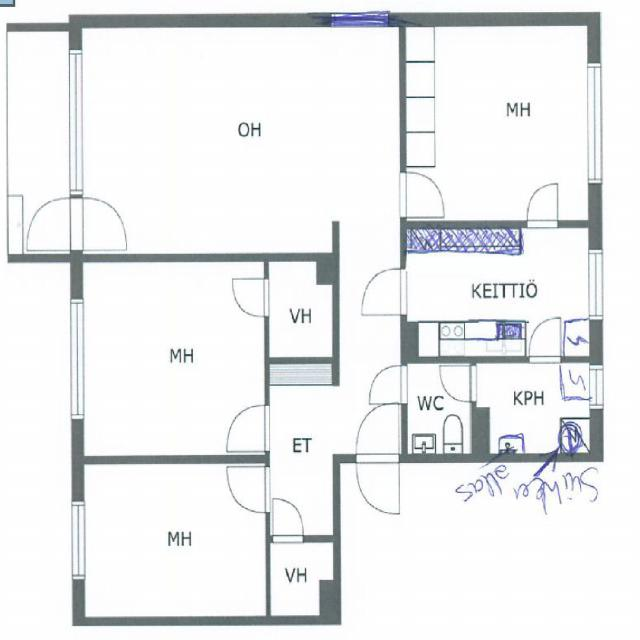door: (27, 197, 83, 250), (70, 197, 126, 249), (356, 454, 398, 514), (356, 402, 398, 462), (401, 172, 445, 218), (227, 467, 271, 512), (364, 269, 407, 315), (228, 406, 271, 451), (369, 365, 407, 404), (528, 318, 560, 363), (528, 183, 558, 230), (273, 498, 303, 543), (235, 279, 271, 316), (442, 366, 477, 402)
